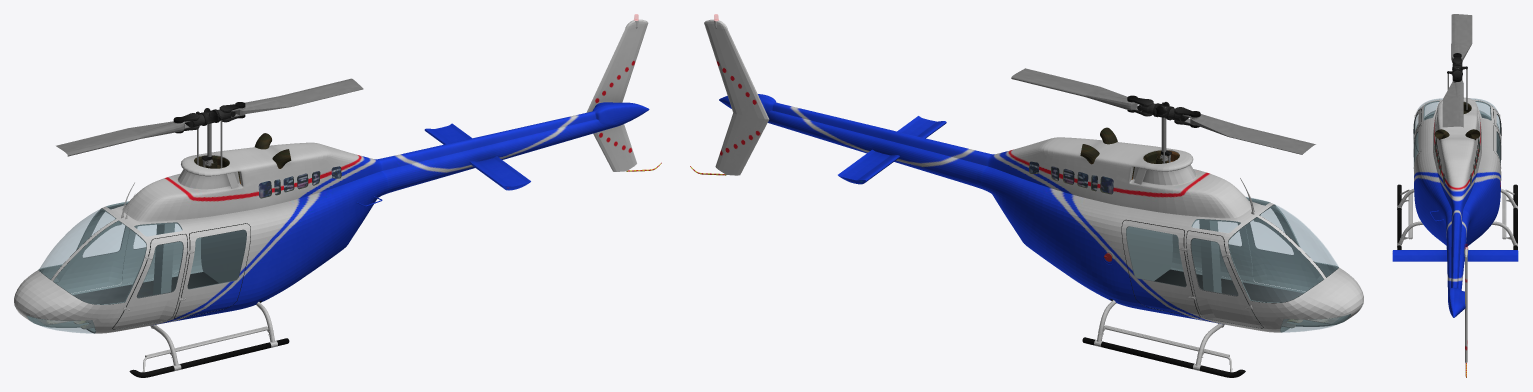
The model's file is heli_206.glb.
The picture shows the model from 3 angles, left to right: view 1: azimuth 30°, elevation 25°; view 2: azimuth 150°, elevation 25°; view 3: azimuth 270°, elevation 25°; orthographic projection. The views are drawn at different scales.
Parts seen in each view (by area): view 1: fuselage, tail, HDRwindows, interieur, vertstab, blade1 (×2), leftdoor2, leftdoor1, intrightdoor1, HDRleftwindow2, planchet, elevatortrim (+5 smaller); view 2: fuselage, HDRwindows, tail, interieur, vertstab, blade1 (×2), rightdoor2, rightdoor1, intleftdoor1, HDRrightwindow2, planchet, elevatortrim (+5 smaller); view 3: fuselage, tail, blade1 (×2), elevatortrim, skids, skids2, interieur, HDRwindows, trous, vertstab, skids4, axe (×2) (+3 smaller).
Boxes of the visible parts, bbox=[...] form: fuselage: bbox=[14, 142, 387, 333]; tail: bbox=[378, 102, 649, 194]; HDRwindows: bbox=[27, 167, 340, 332]; interieur: bbox=[26, 201, 262, 333]; vertstab: bbox=[586, 19, 648, 171]; blade1 (×2): bbox=[56, 78, 363, 156]; leftdoor2: bbox=[174, 223, 250, 318]; leftdoor1: bbox=[113, 234, 187, 329]; intrightdoor1: bbox=[65, 204, 129, 293]; HDRleftwindow2: bbox=[188, 230, 246, 288]; planchet: bbox=[37, 272, 218, 329]; elevatortrim: bbox=[424, 123, 530, 190]; fuselage: bbox=[981, 137, 1363, 332]; HDRwindows: bbox=[1029, 162, 1350, 331]; tail: bbox=[719, 94, 991, 190]; interieur: bbox=[1110, 197, 1350, 332]; vertstab: bbox=[704, 19, 769, 175]; blade1 (×2): bbox=[1011, 68, 1315, 154]; rightdoor2: bbox=[1122, 220, 1199, 317]; rightdoor1: bbox=[1186, 231, 1262, 327]; intleftdoor1: bbox=[1245, 200, 1311, 291]; HDRrightwindow2: bbox=[1127, 227, 1185, 286]; planchet: bbox=[1154, 269, 1340, 328]; elevatortrim: bbox=[838, 116, 946, 184]; fuselage: bbox=[1414, 97, 1501, 246]; tail: bbox=[1445, 203, 1469, 317]; blade1 (×2): bbox=[1442, 14, 1472, 127]; elevatortrim: bbox=[1392, 250, 1518, 261]; skids: bbox=[1397, 184, 1517, 249]; skids2: bbox=[1400, 189, 1514, 239]; interieur: bbox=[1414, 101, 1500, 160]; HDRwindows: bbox=[1419, 99, 1493, 182]; trous: bbox=[1434, 102, 1480, 185]; vertstab: bbox=[1464, 247, 1468, 362]; skids4: bbox=[1397, 221, 1517, 247]; axe (×2): bbox=[1447, 53, 1467, 81].
Bounding box in the file's own units: 9.57 × 3.07 × 2.04.
Materials: 7 (7 with a texture image).
